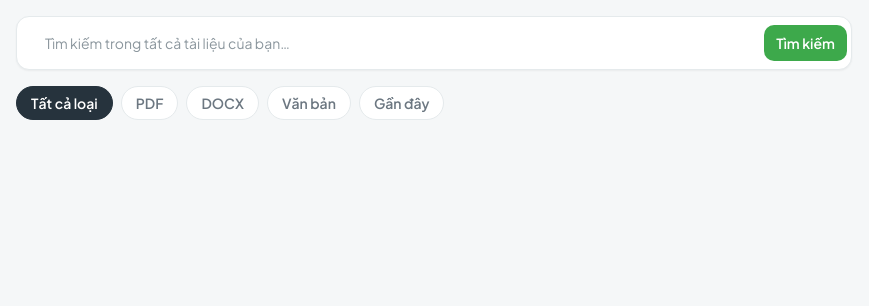
Test case: SearchPage › groups multiple passages from the same document under one card
Type "revenue" into the field named "Tìm kiếm tài liệu của bạn".
click(393, 43); type("revenue")  # box [33,21,752,65]
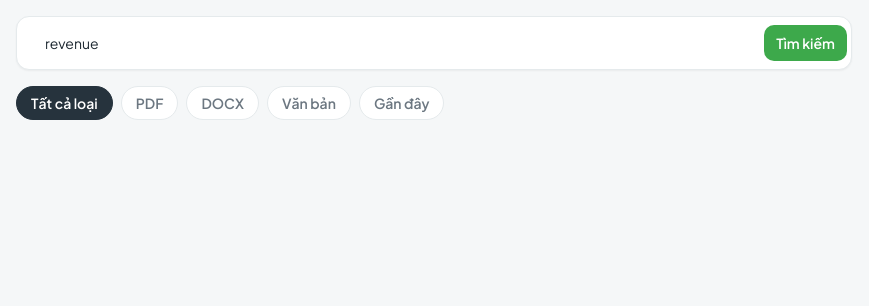
Click the button "Tìm kiếm".
click(806, 43)  # box [764,25,847,61]
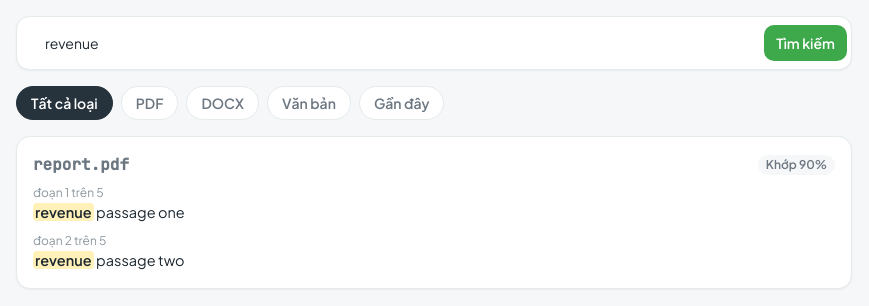
Expected: the text "report.pdf" is shown once, [33,153,129,177]
